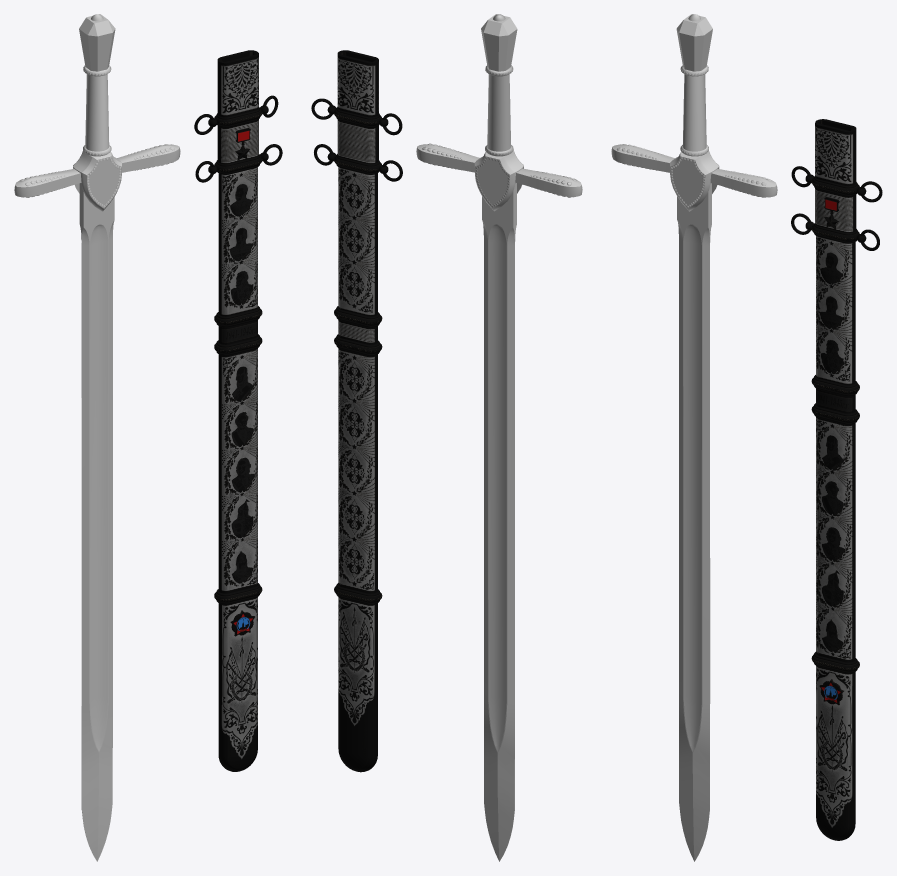
The model's file is The Sword of Victory.obj.
3 views of the same model, side by side, from view 1: azimuth 30°, elevation 25°; view 2: azimuth 150°, elevation 25°; view 3: azimuth 330°, elevation 25° (orthographic).
Visible parts, largest first — view 1: sword2, sword; view 2: sword2, sword; view 3: sword2, sword.
Part boxes in pixels (x1,y1,x2,y2): sword2: [194, 50, 282, 771]; sword: [14, 14, 180, 861]; sword2: [311, 50, 402, 772]; sword: [416, 14, 582, 861]; sword2: [791, 119, 882, 840]; sword: [611, 14, 777, 861].
Size of the model in its own units: 38.59 by 117 by 4.
